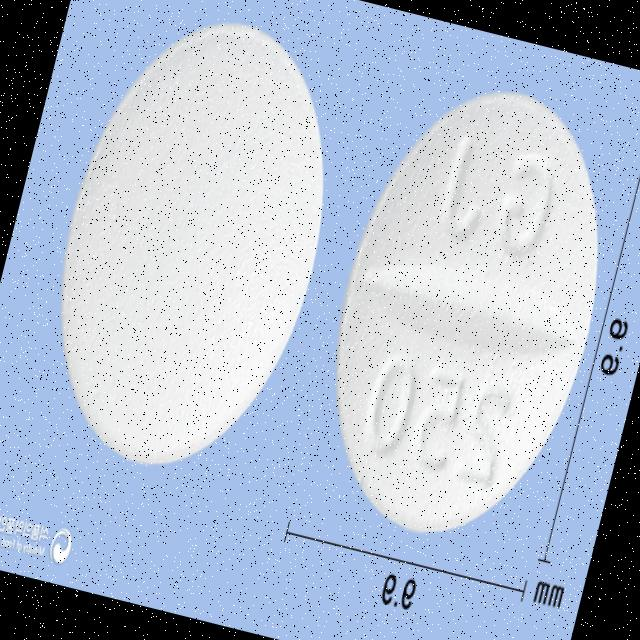Newloxacin Tab: (294, 60, 640, 560), (16, 0, 367, 491)
